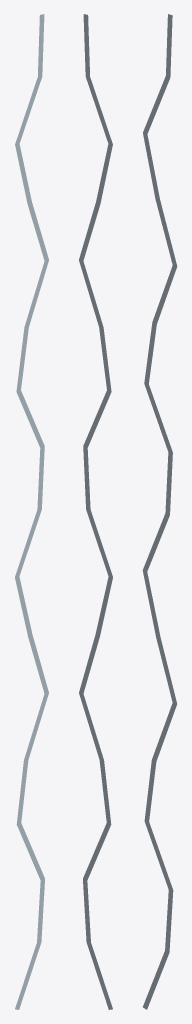
File: Keqing_StarwardSword_CancelAfterCombo_OpeningFineArc5.fbx
The picture shows the model from 3 angles, left to right: view 1: azimuth 30°, elevation 25°; view 2: azimuth 150°, elevation 25°; view 3: azimuth 330°, elevation 25°; orthographic projection.
Parts seen in each view (by area): view 1: PART_OpeningFineArc5; view 2: PART_OpeningFineArc5; view 3: PART_OpeningFineArc5.
Part boxes in pixels (<box>): PART_OpeningFineArc5: <box>15,14,48,1009</box>; PART_OpeningFineArc5: <box>79,14,112,1009</box>; PART_OpeningFineArc5: <box>142,14,177,1009</box>.
Size of the model in its own units: 17.95 by 495 by 8.06e-05.
